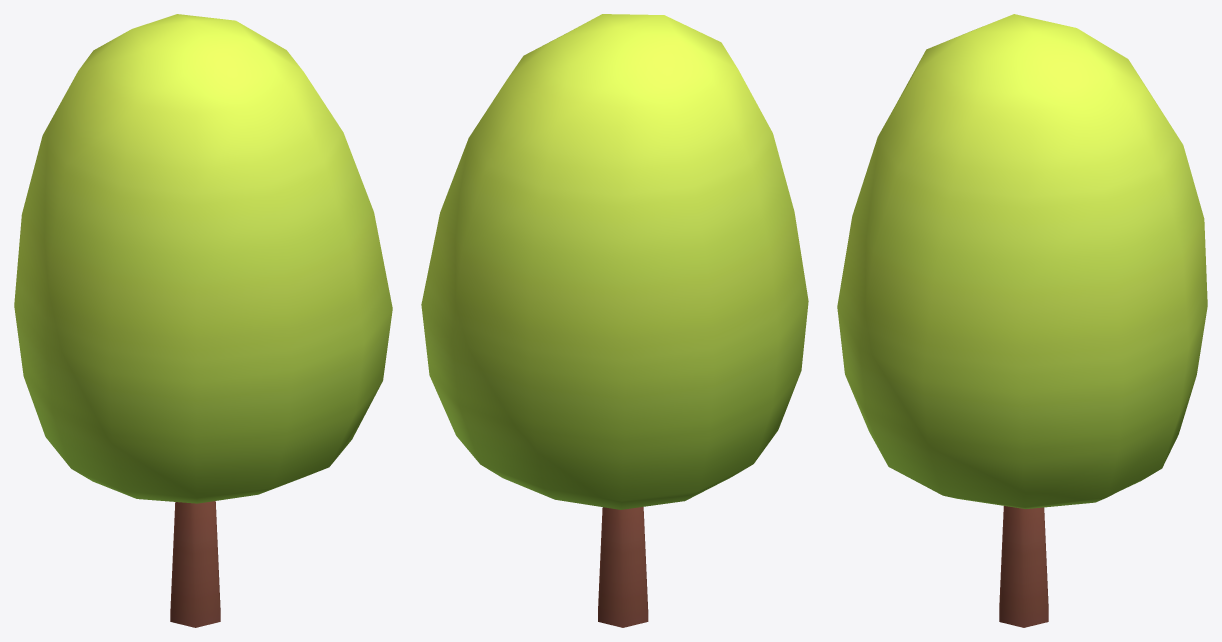
File: city2-tree-02.glb
3 views of the same model, side by side, from view 1: azimuth 30°, elevation 25°; view 2: azimuth 150°, elevation 25°; view 3: azimuth 270°, elevation 25° (orthographic).
Parts seen in each view (by area): view 1: Tree_02; view 2: Tree_02; view 3: Tree_02.
Boxes of the visible parts, left/top/right/bottom form: Tree_02: left=14, top=14, right=392, bottom=627; Tree_02: left=421, top=14, right=808, bottom=627; Tree_02: left=837, top=14, right=1207, bottom=627.
Bounding box in the file's own units: 3.66 × 6.38 × 3.67.
Materials: 1 (1 with a texture image).
